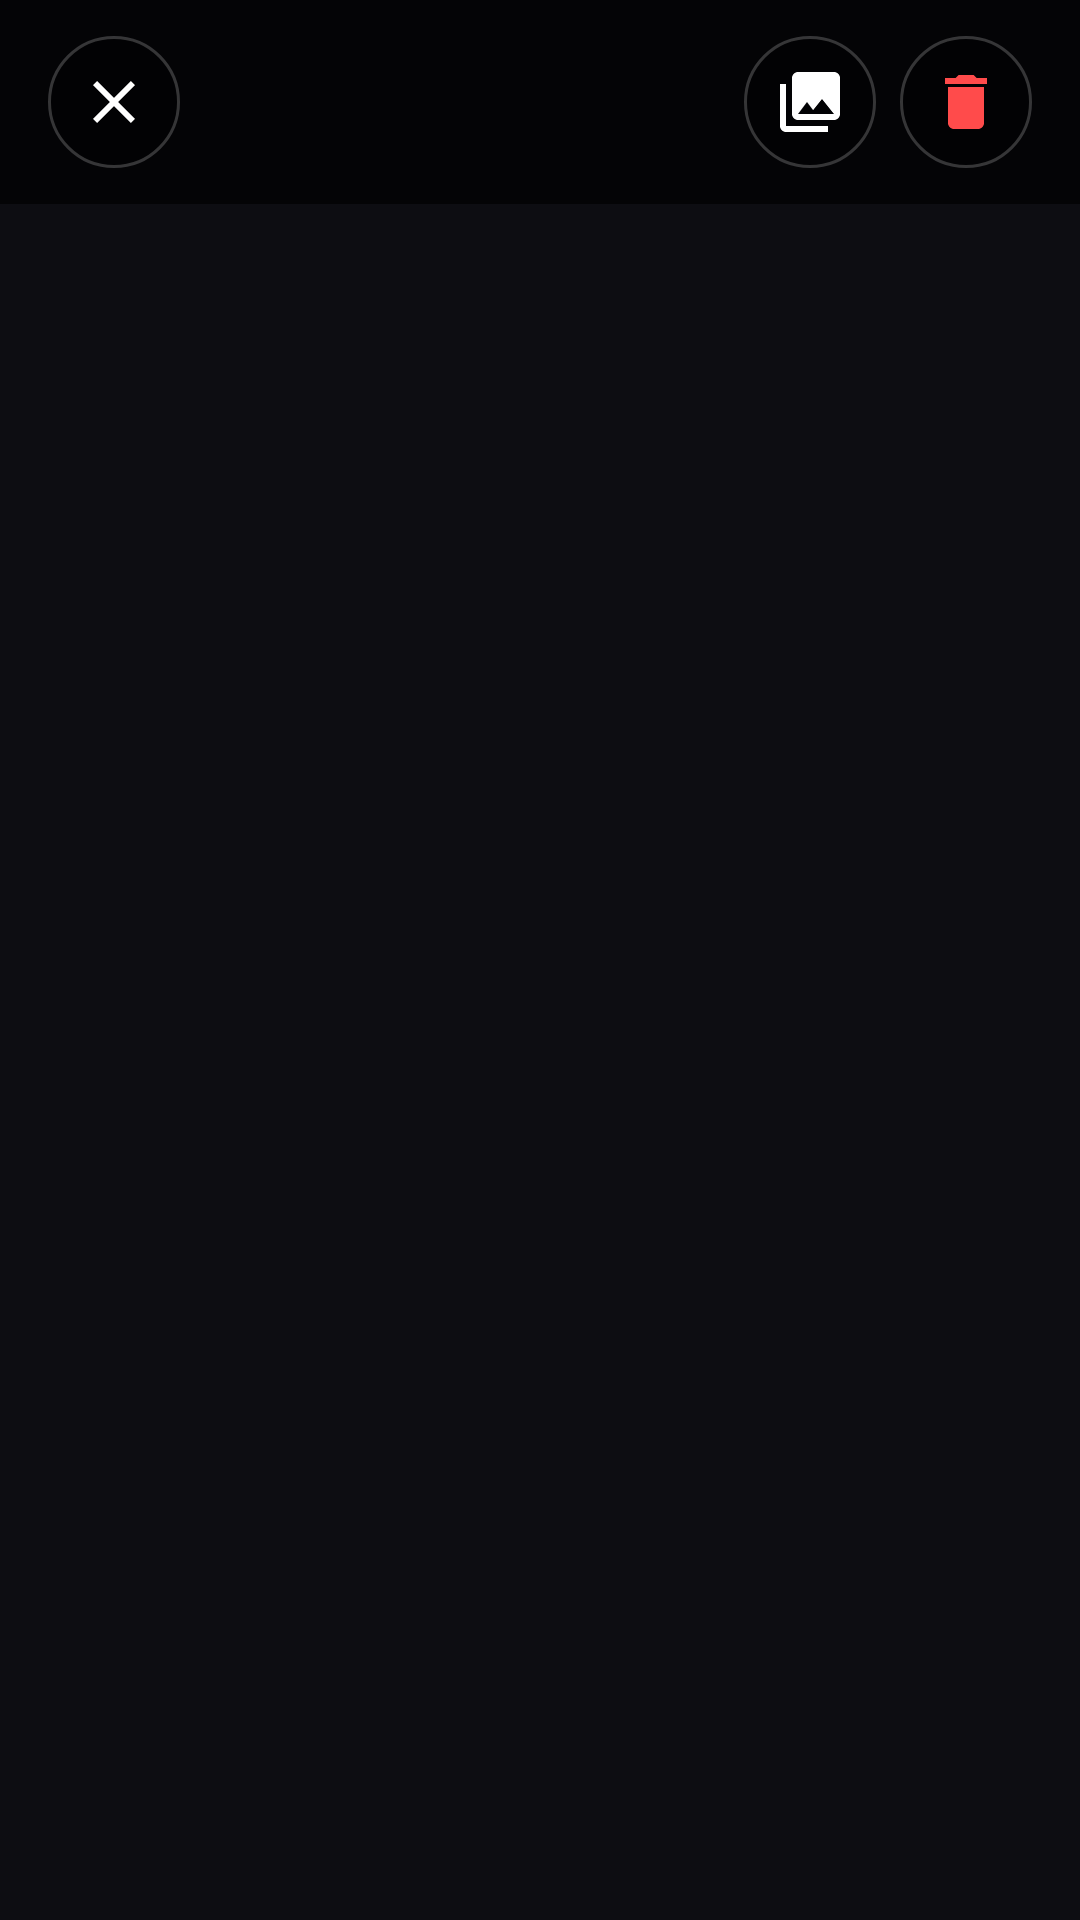

Icons on this 1080px×1920px Android screen, each with its box as box(x1, y1, x2, y2):
刪除: box(900, 36, 1032, 168)
相簿: box(744, 36, 876, 168)
關閉: box(48, 36, 180, 168)
